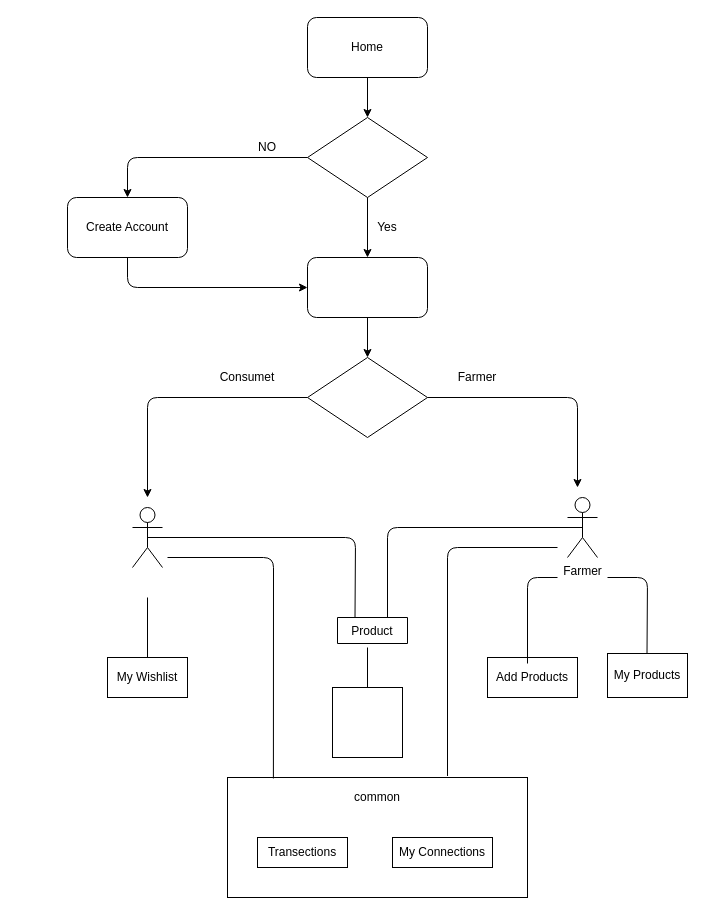
This 705x915 diagram has some shape labels left out. Each missing label, with the centre of its shape:
consumer: the point at 147,537
Existing User: the point at 367,157
Farmer/Consumer: the point at 367,397
Login as: the point at 367,287
Update Products: the point at 367,722
